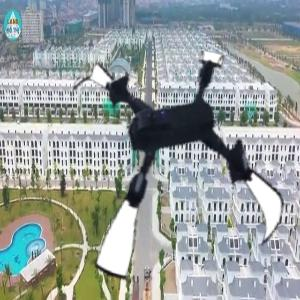drone: (51, 48, 295, 292)
